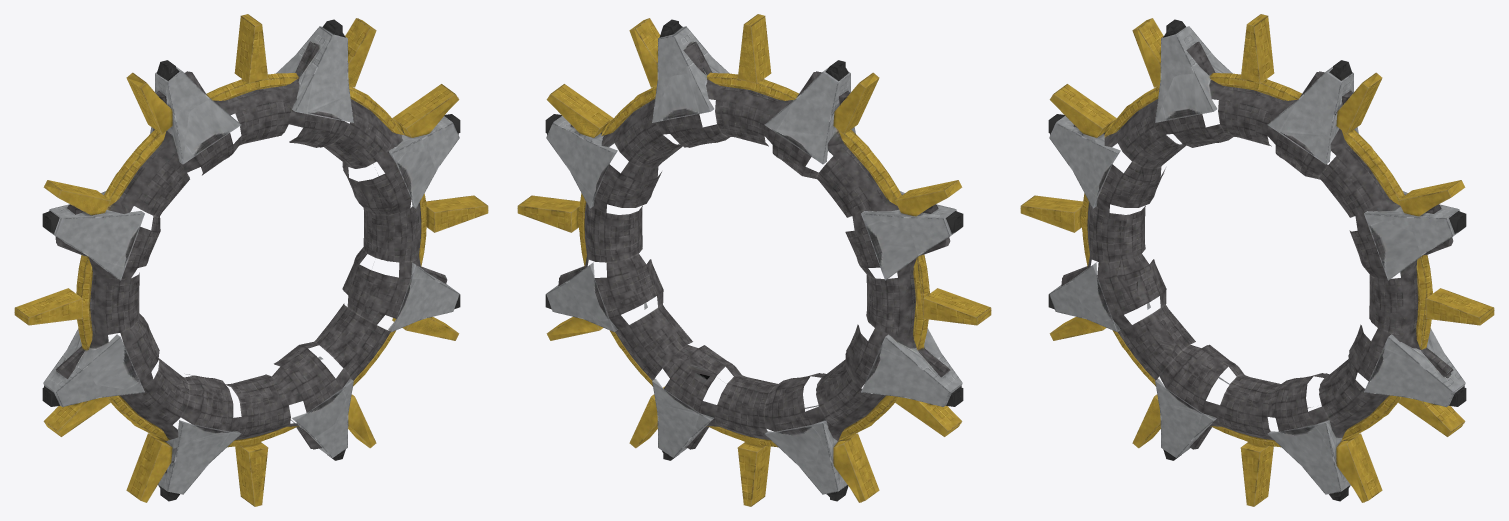
File: sd_prop_gate_kadim.glb
The picture shows the model from 3 angles, left to right: view 1: azimuth 30°, elevation 25°; view 2: azimuth 150°, elevation 25°; view 3: azimuth 330°, elevation 25°; orthographic projection.
Parts seen in each view (by area): view 1: LOD0_body, LOD1_body; view 2: LOD0_body, LOD1_body; view 3: LOD0_body, LOD1_body.
Boxes of the visible parts, x1,y1,x2,y2 form: LOD0_body: [14, 14, 488, 506]; LOD1_body: [14, 15, 486, 505]; LOD0_body: [517, 14, 991, 506]; LOD1_body: [520, 14, 991, 505]; LOD0_body: [1020, 14, 1494, 506]; LOD1_body: [1023, 14, 1494, 505].
Bounding box in the file's own units: 1 × 1 × 0.1277.
1 material, 1 textured.
